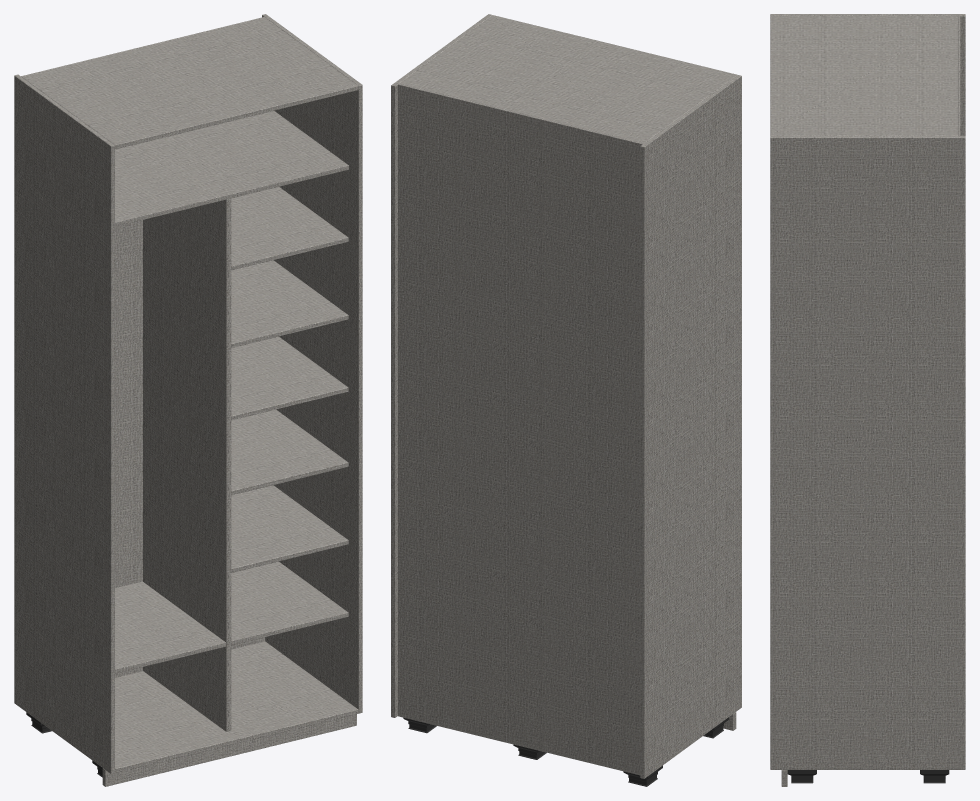
Rendered from cbib12134.gltf.
3 views of the same model, side by side, from view 1: azimuth 30°, elevation 25°; view 2: azimuth 150°, elevation 25°; view 3: azimuth 270°, elevation 25° (orthographic).
Visible parts, largest first — view 1: CBIB12134; view 2: CBIB12134; view 3: CBIB12134.
Part boxes in pixels (left/top/right/bottom): CBIB12134: left=14, top=14, right=362, bottom=786; CBIB12134: left=391, top=14, right=741, bottom=786; CBIB12134: left=770, top=14, right=965, bottom=786.
Size of the model in its own units: 0.9 by 2.2 by 0.6.
3 materials, 2 textured.
